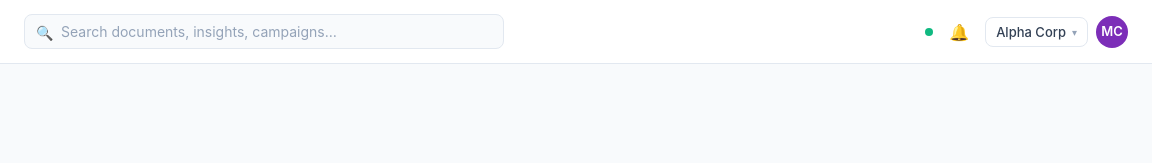
Test: Header — workspace switcher › clicking switcher button opens dropdown
Click the button with aria-label "switch workspace": (1037,32) [985, 16, 1088, 46]
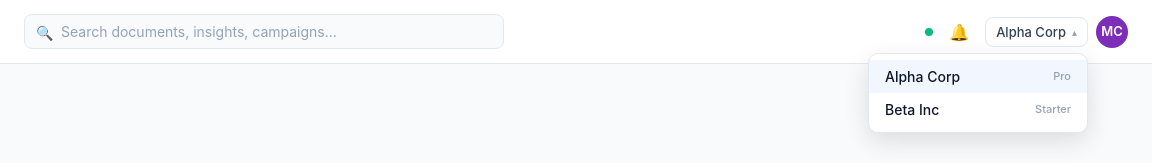
Now the list with test id "workspace-dropdown" is shown, box [868, 52, 1088, 132]
